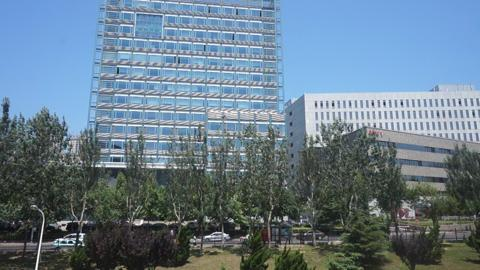UAV: (215, 113, 231, 120)
